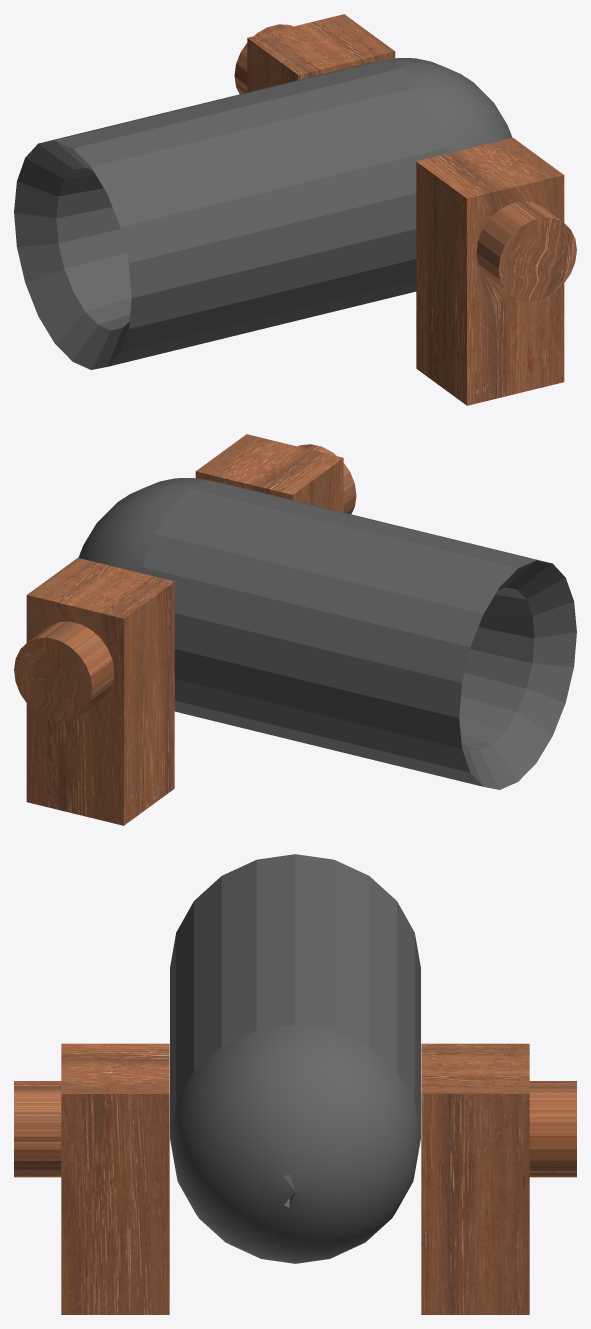
The model's file is canon_lvl1.fbx.
The picture shows the model from 3 angles, top to bottom: view 1: azimuth 30°, elevation 25°; view 2: azimuth 150°, elevation 25°; view 3: azimuth 270°, elevation 25°; orthographic projection. The views are drawn at different scales.
Visible parts, largest first — view 1: Canon:holder1; view 2: Canon:holder1; view 3: Canon:holder1.
Part boxes in pixels (box(x1,y1,x2,y2)): Canon:holder1: box(14, 14, 576, 405); Canon:holder1: box(14, 434, 576, 825); Canon:holder1: box(14, 854, 576, 1314).
Size of the model in its own units: 4.88 by 2.67 by 5.19.
2 materials, 1 textured.
